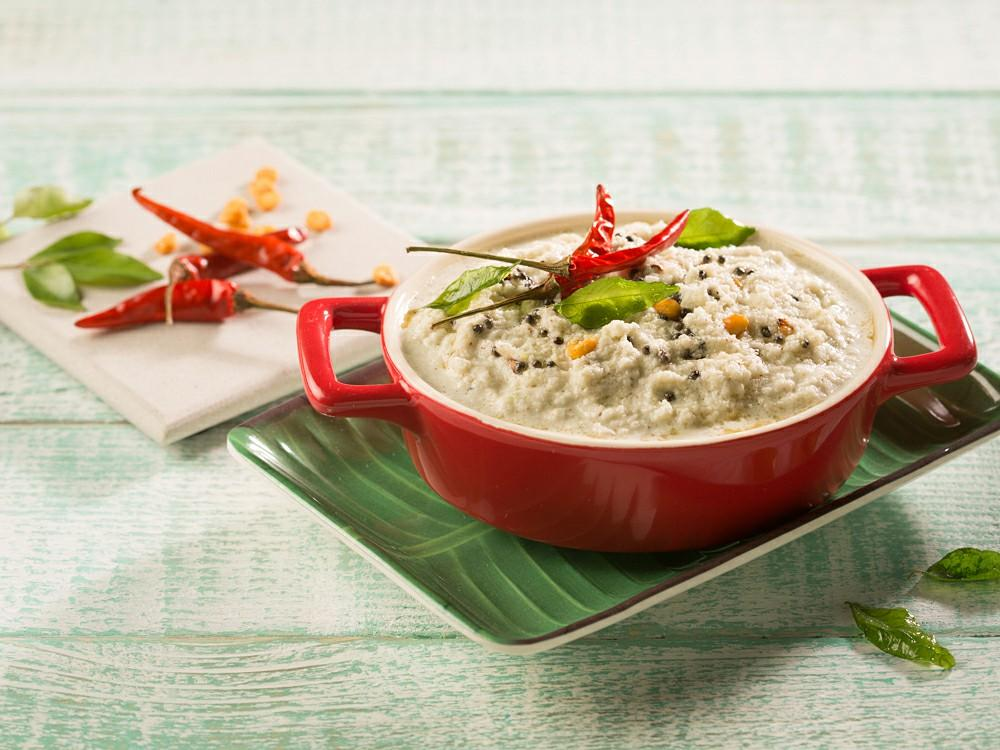CoconutChutney: (411, 221, 868, 433)
